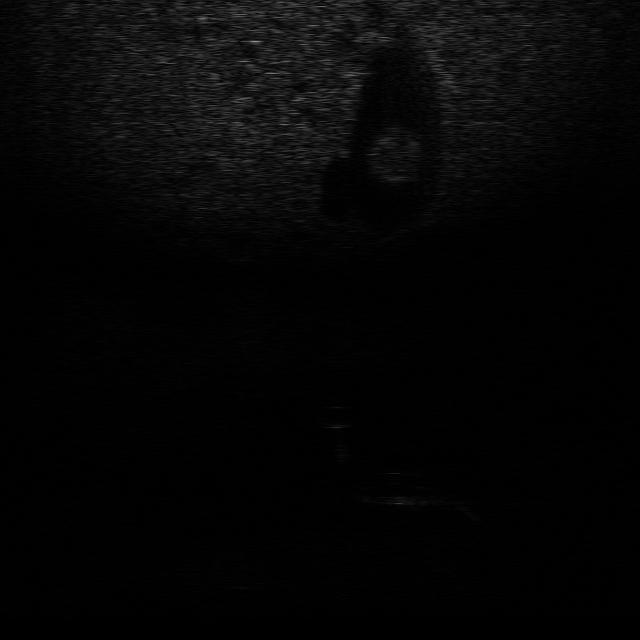ball: (310, 400, 359, 431)
tyre: (351, 466, 445, 509)
